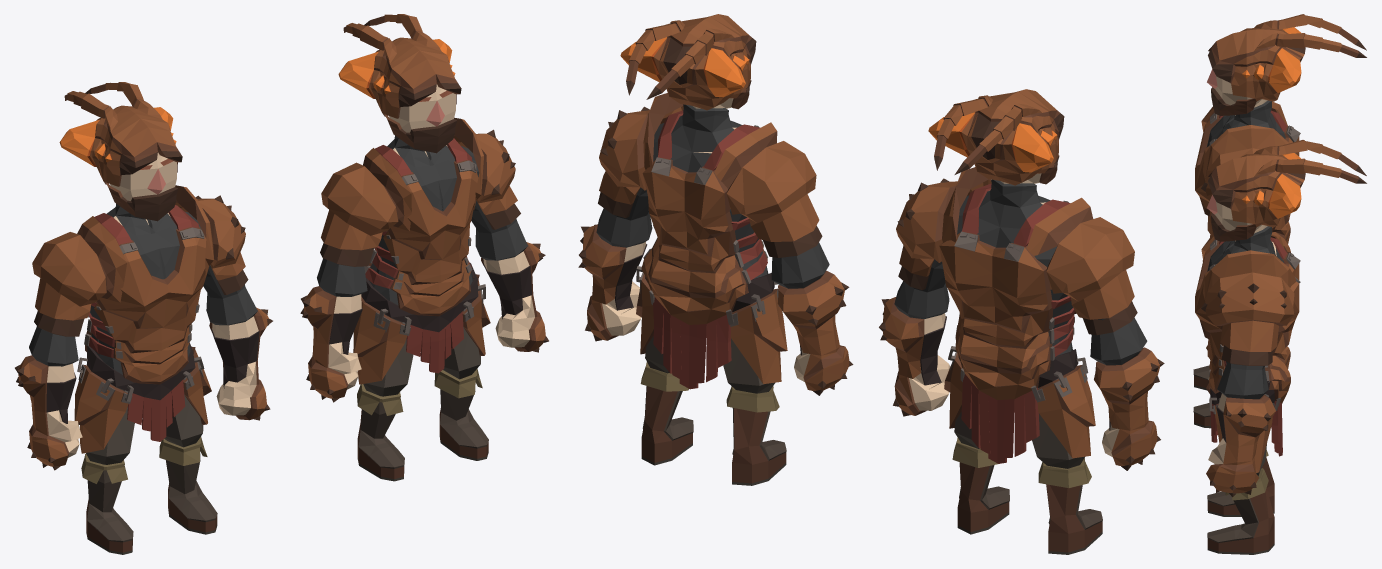
Rendered from legendary_hunters.fbx.
3 views of the same model, side by side, from view 1: azimuth 30°, elevation 25°; view 2: azimuth 150°, elevation 25°; view 3: azimuth 270°, elevation 25° (orthographic). The views are drawn at different scales.
Visible parts, largest first — view 1: NPC_LegendaryHunter_01m, NPC_LegendaryHunter_01f; view 2: NPC_LegendaryHunter_01m, NPC_LegendaryHunter_01f; view 3: NPC_LegendaryHunter_01f, NPC_LegendaryHunter_01m.
Part boxes in pixels (bbox=[...]): NPC_LegendaryHunter_01m: bbox=[15, 82, 272, 554]; NPC_LegendaryHunter_01f: bbox=[300, 14, 548, 481]; NPC_LegendaryHunter_01m: bbox=[879, 89, 1164, 554]; NPC_LegendaryHunter_01f: bbox=[578, 14, 853, 485]; NPC_LegendaryHunter_01f: bbox=[1195, 140, 1366, 554]; NPC_LegendaryHunter_01m: bbox=[1193, 14, 1366, 428].
Bounding box in the file's own units: 1212 × 907 × 377.
